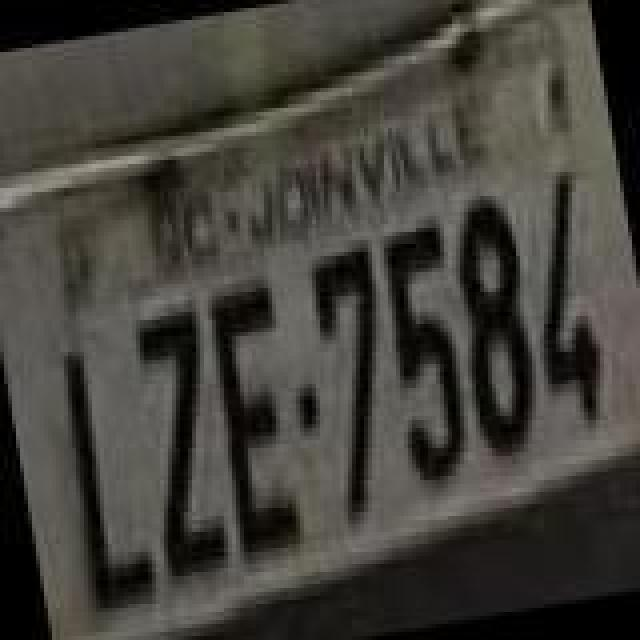4: (504, 160, 616, 432)
5: (372, 214, 492, 490)
7: (300, 236, 420, 532)
8: (436, 190, 556, 466)
E: (194, 278, 318, 570)
L: (46, 336, 162, 616)
Z: (124, 310, 244, 586)
